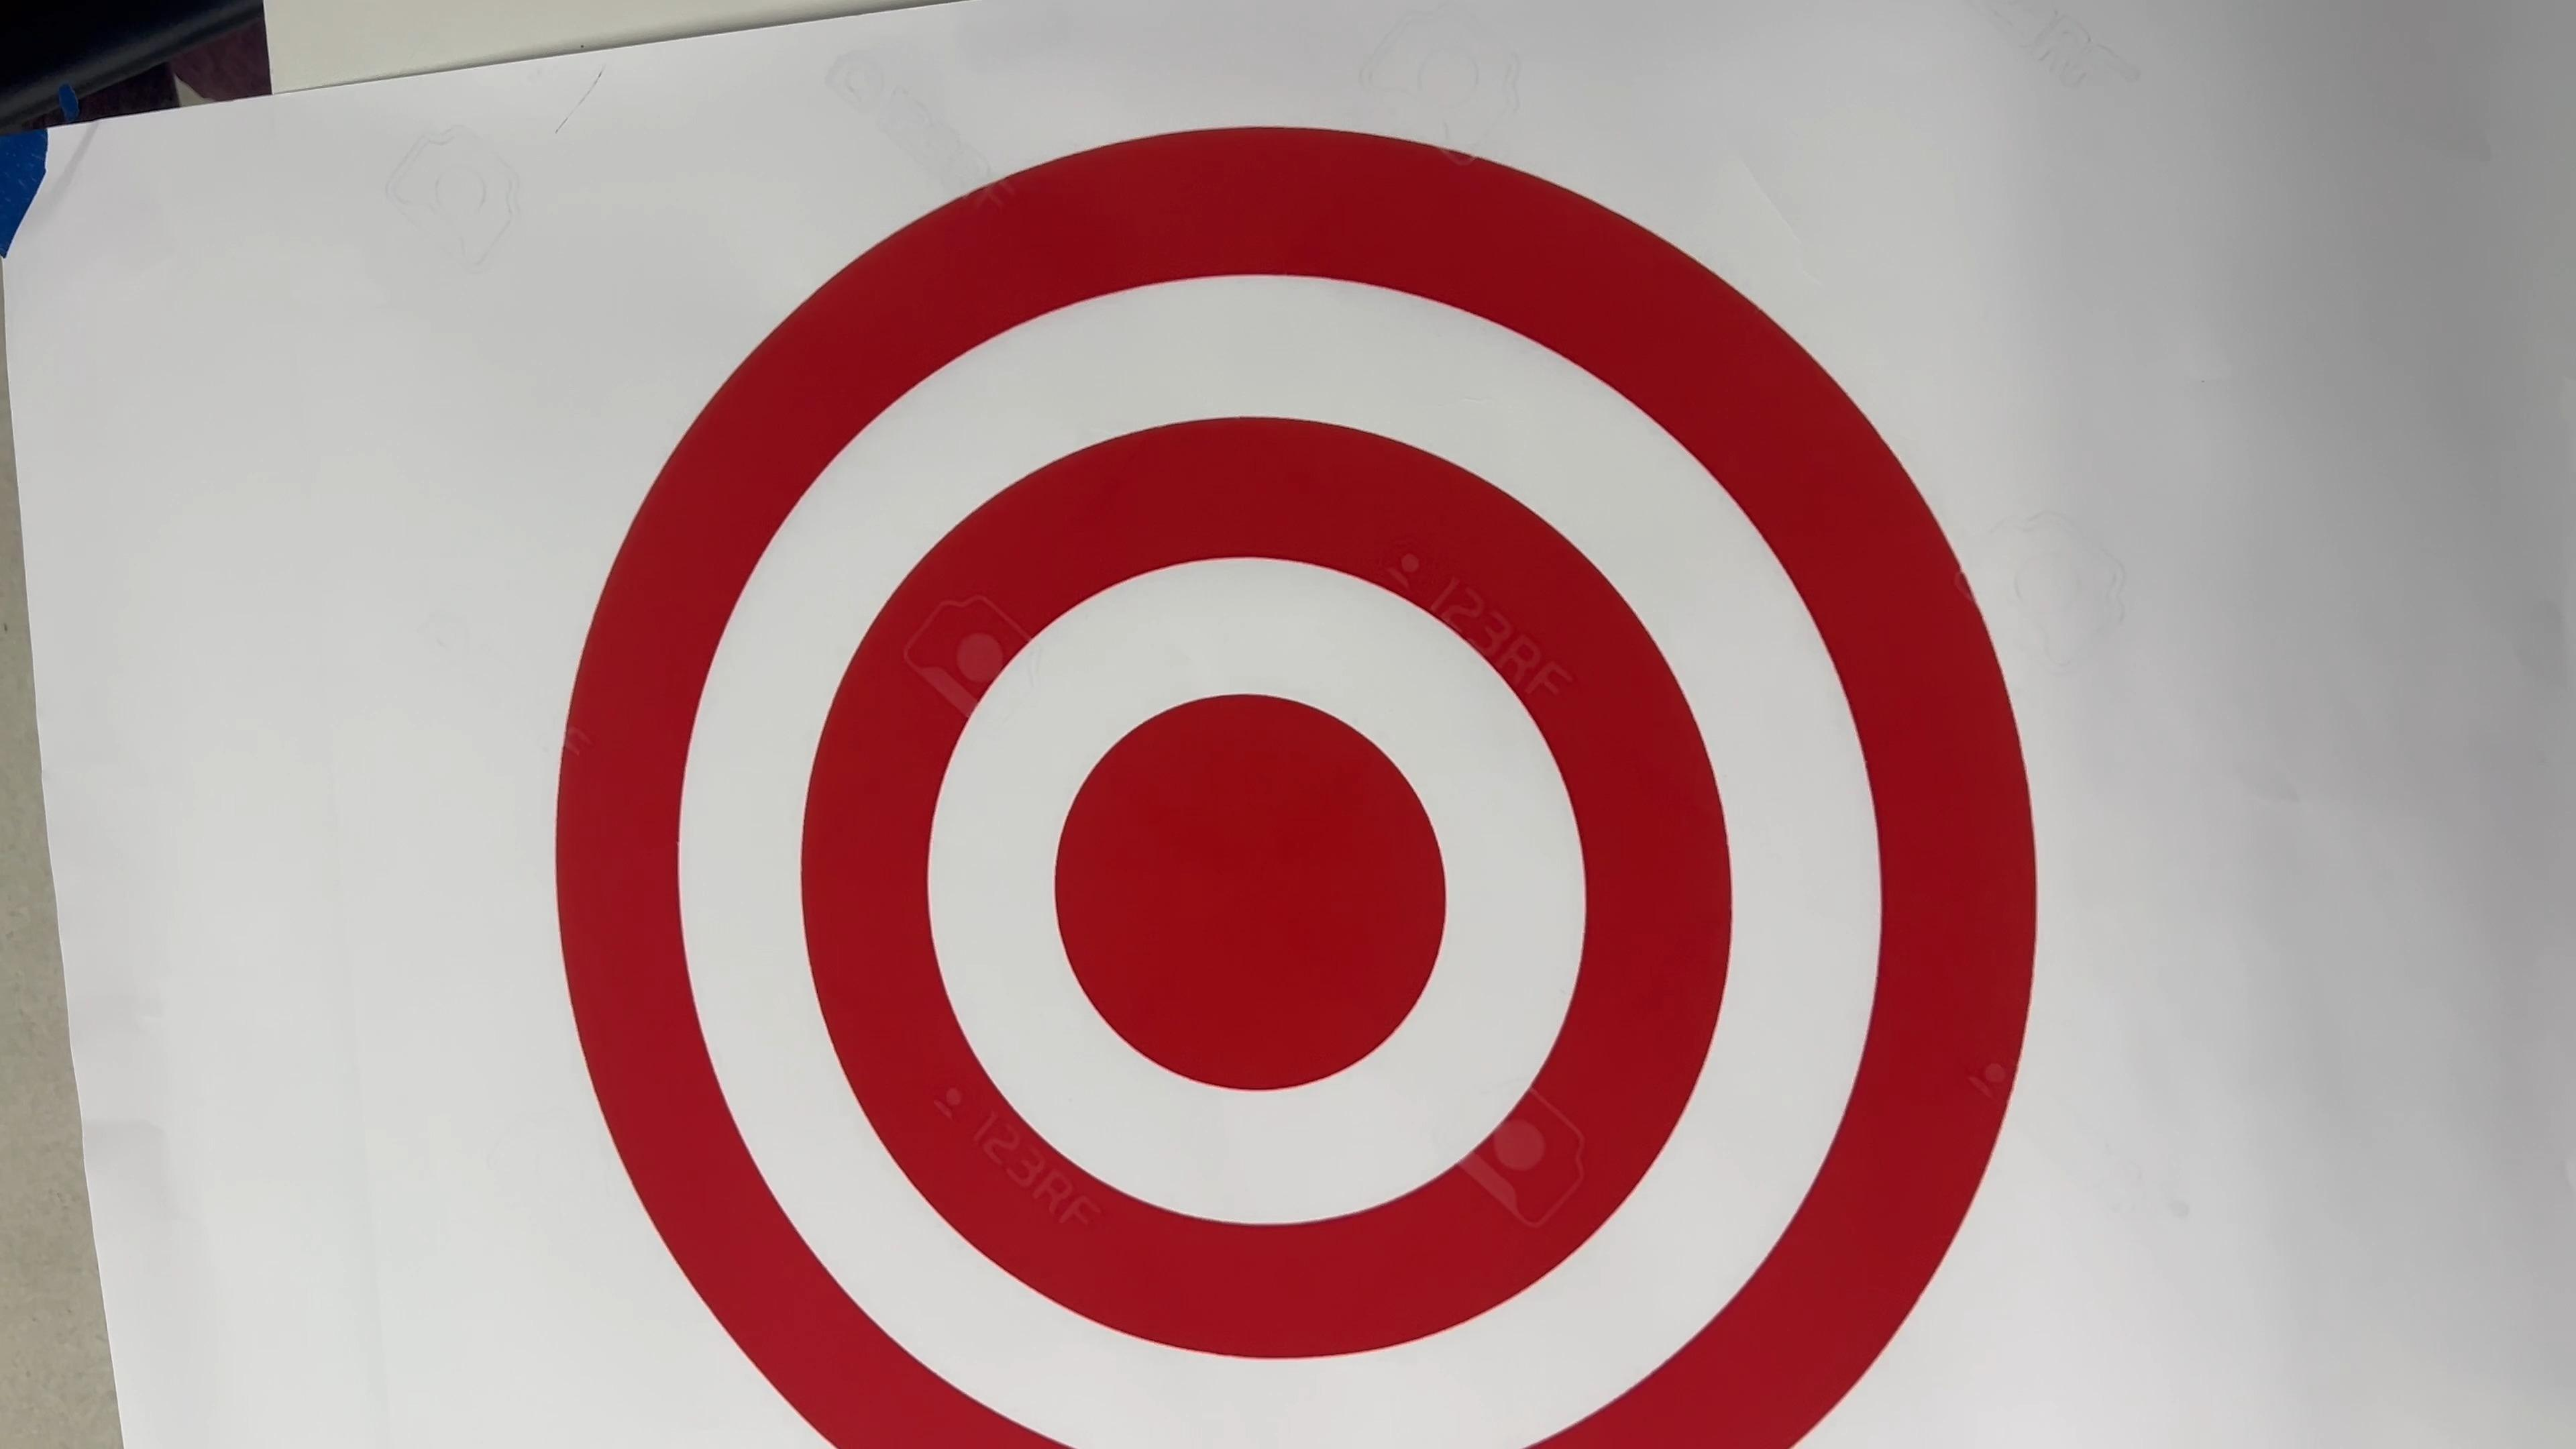target_red: (531, 108, 2077, 1449)
